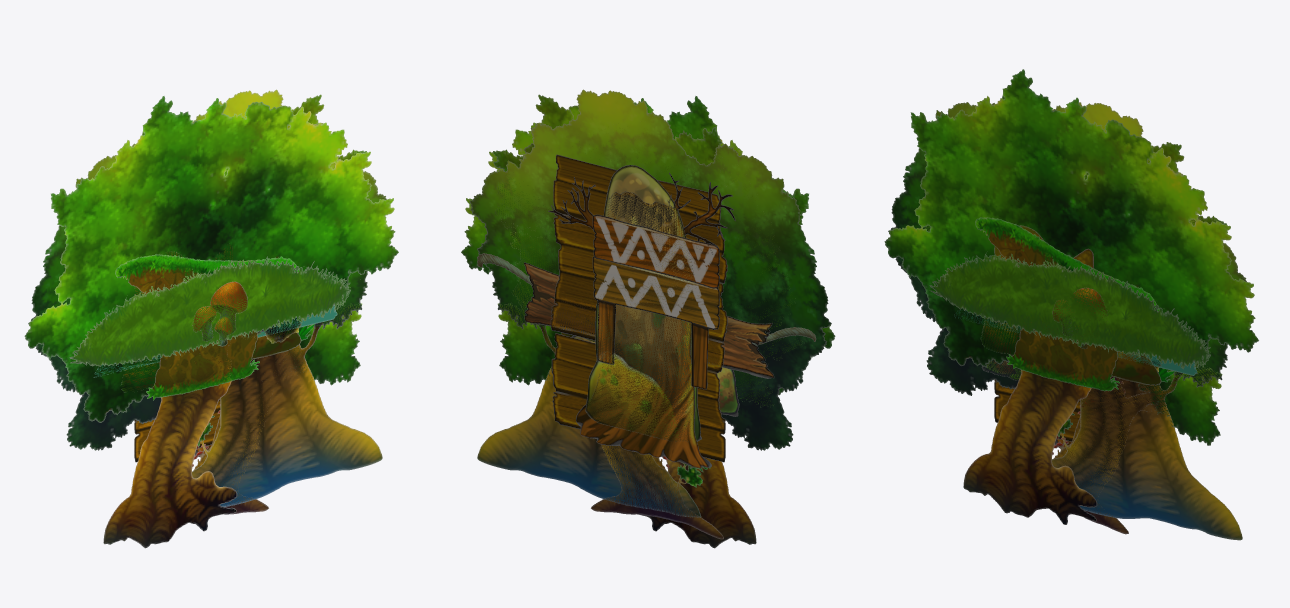
Rendered from StageObject.FBX.
3 renders of one model, left to right at view 1: azimuth 30°, elevation 25°; view 2: azimuth 150°, elevation 25°; view 3: azimuth 330°, elevation 25°, orthographic.
Visible parts, largest first — view 1: BG04, BG07, BG02, BG03, BG08, BG01, BG06, BG05, Bridge01; view 2: BG07, Bridge01, Trap05, Trap02, Trap04, BG08, BG04, Trap03, Bridge02, Trap07; view 3: BG04, BG07, BG02, BG03, BG08, BG06, BG05, Bridge01, BG01.
Boxes of the visible parts, x1,y1,x2,y2 form: BG04: [24, 96, 398, 548]; BG07: [28, 89, 386, 506]; BG02: [69, 256, 360, 366]; BG03: [115, 254, 298, 400]; BG08: [142, 94, 366, 514]; BG01: [192, 281, 247, 346]; BG06: [121, 245, 301, 392]; BG05: [93, 305, 337, 377]; Bridge01: [134, 399, 220, 462]; BG07: [469, 89, 831, 517]; Bridge01: [550, 154, 727, 462]; Trap05: [585, 165, 701, 441]; Trap02: [548, 172, 735, 468]; Trap04: [592, 214, 719, 389]; BG08: [493, 94, 802, 539]; BG04: [461, 96, 835, 548]; Trap03: [524, 262, 774, 378]; Bridge02: [477, 253, 816, 345]; Trap07: [571, 335, 739, 416]; BG04: [884, 69, 1258, 524]; BG07: [888, 102, 1246, 540]; BG02: [929, 251, 1220, 369]; BG03: [975, 217, 1158, 391]; BG08: [924, 95, 1226, 534]; BG06: [980, 225, 1161, 385]; BG05: [954, 309, 1197, 375]; Bridge01: [994, 379, 1080, 441]; BG01: [1052, 287, 1107, 348].
Bounding box in the file's own units: 87.25 × 100 × 3.58e-05.
Materials: 1 (1 with a texture image).
